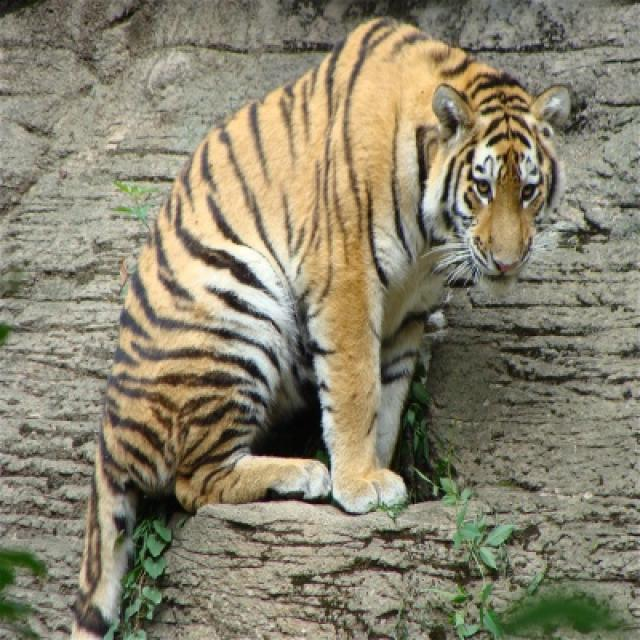Tiger: (71, 17, 581, 638)
